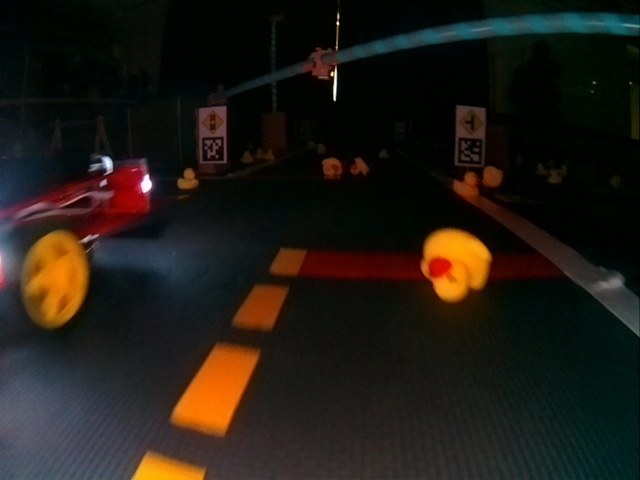Duckie: (422, 230, 491, 301), (454, 173, 479, 198), (177, 169, 199, 188), (484, 166, 503, 187), (324, 157, 342, 176), (352, 158, 369, 173), (266, 150, 275, 160), (243, 152, 252, 161)
Duckiebot: (2, 155, 151, 333)
Intersection sign: (457, 108, 485, 135)
QR code: (457, 138, 484, 164), (201, 136, 225, 162)
Signal sign: (199, 109, 224, 132)
Traffic light: (310, 50, 334, 79)
